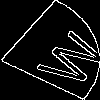W: (25, 25, 100, 90)
